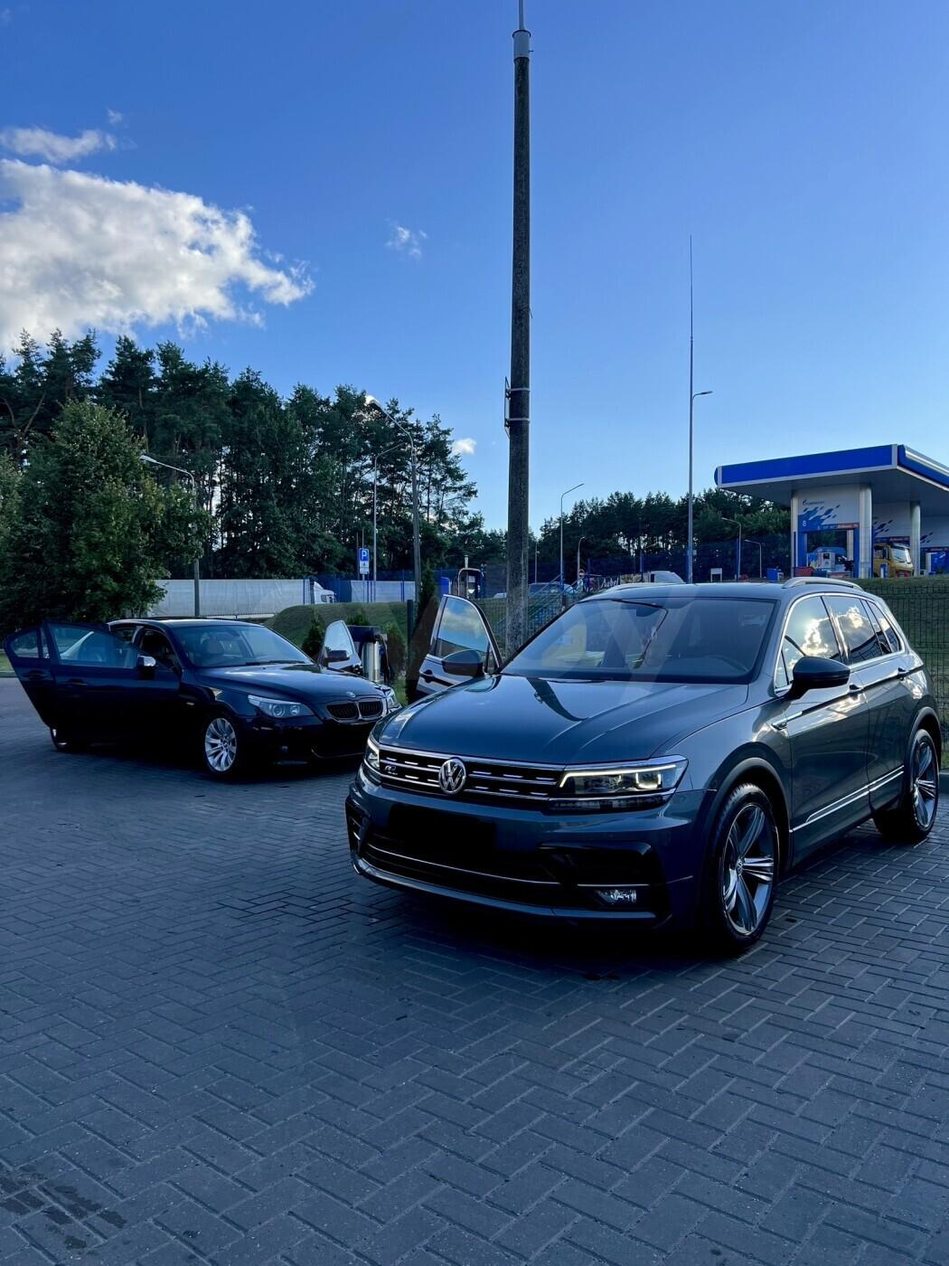Tiguan_2020-2024: (345, 579, 945, 950)
